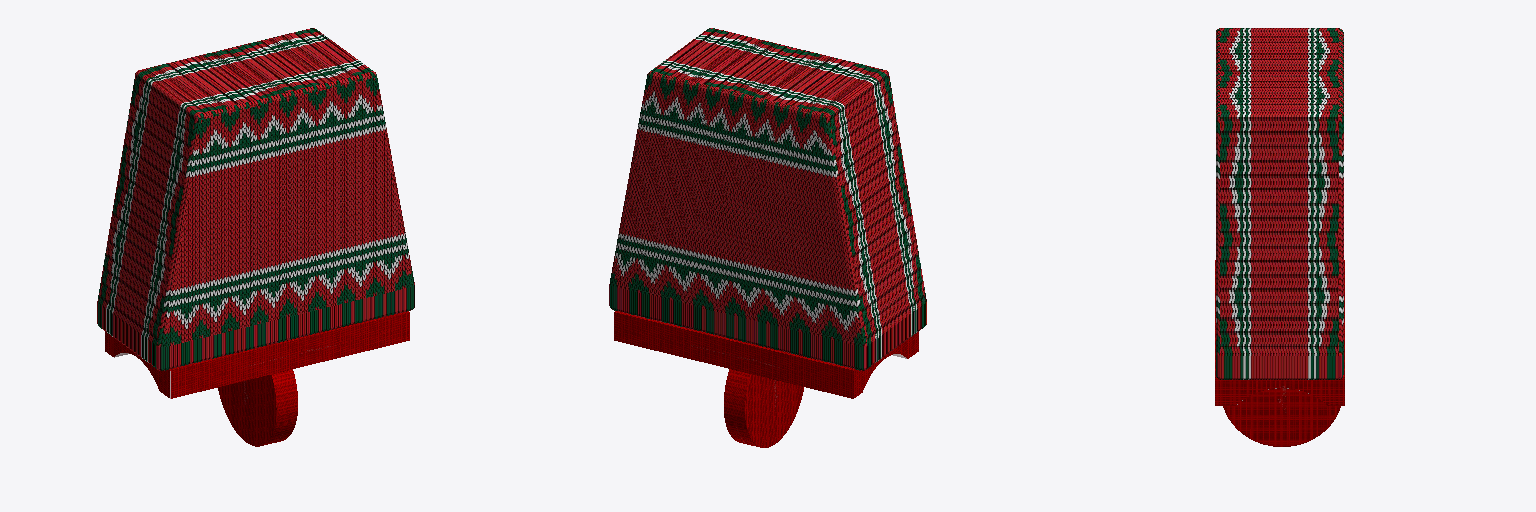
3 renders of one model, left to right at view 1: azimuth 30°, elevation 25°; view 2: azimuth 150°, elevation 25°; view 3: azimuth 270°, elevation 25°, orthographic.
Visible parts, largest first — view 1: Cuerpo; view 2: Cuerpo; view 3: Cuerpo.
Boxes of the visible parts, x1,y1,x2,y2 form: Cuerpo: [97, 28, 414, 446]; Cuerpo: [609, 28, 926, 447]; Cuerpo: [1215, 28, 1344, 446].
Size of the model in its own units: 2.33 by 3.2 by 1.02.
Materials: 2 (2 with a texture image).